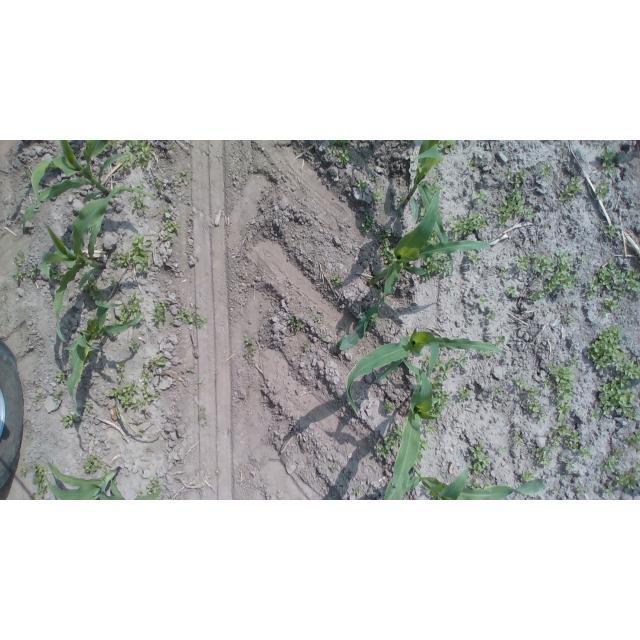Maize: (39, 186, 158, 344), (368, 185, 493, 308), (346, 327, 506, 418), (19, 141, 131, 233), (60, 301, 145, 418), (373, 353, 437, 500), (412, 454, 548, 500), (410, 141, 455, 275), (43, 461, 128, 500)
Weeds: (422, 356, 469, 435), (583, 258, 640, 317), (515, 252, 583, 301), (585, 328, 640, 383), (495, 168, 534, 224), (108, 232, 151, 276), (594, 382, 639, 423), (549, 424, 590, 460), (108, 382, 161, 409), (451, 212, 487, 243), (372, 423, 404, 457), (545, 364, 574, 398), (606, 467, 640, 493), (172, 308, 209, 331), (420, 257, 454, 282), (123, 141, 152, 170), (525, 389, 548, 424), (13, 251, 38, 283), (555, 176, 584, 203), (466, 443, 491, 473), (142, 359, 169, 385), (30, 464, 48, 501), (118, 296, 140, 326), (378, 229, 395, 266), (598, 451, 623, 476), (327, 141, 351, 164), (599, 146, 617, 175), (83, 274, 100, 299), (159, 222, 179, 243), (130, 196, 148, 216), (154, 301, 167, 328), (624, 430, 640, 451), (556, 400, 577, 416), (421, 229, 439, 246), (83, 455, 99, 474), (426, 173, 441, 193), (48, 262, 62, 283), (529, 446, 547, 462), (594, 182, 610, 199), (286, 316, 302, 332), (457, 387, 471, 405), (146, 479, 161, 495), (243, 338, 257, 354), (476, 189, 489, 206), (603, 223, 617, 237), (114, 365, 124, 384), (438, 142, 455, 153), (514, 435, 527, 449), (178, 170, 188, 188), (55, 370, 66, 386), (520, 473, 536, 484), (362, 216, 373, 232), (358, 180, 371, 193), (61, 415, 74, 428), (128, 339, 140, 353), (385, 400, 396, 415), (53, 391, 64, 406), (468, 481, 490, 488), (494, 385, 505, 399), (331, 273, 342, 287), (371, 189, 382, 203), (81, 401, 92, 414), (467, 253, 481, 263), (562, 461, 574, 472), (303, 342, 312, 355), (516, 379, 526, 390), (106, 142, 118, 151), (496, 447, 507, 456), (506, 286, 514, 298), (33, 391, 40, 404), (500, 267, 509, 277), (479, 298, 488, 307), (21, 466, 28, 477), (469, 160, 476, 171), (540, 166, 548, 175), (314, 316, 323, 323), (567, 316, 576, 323), (488, 314, 497, 321), (154, 180, 161, 188), (499, 335, 506, 343), (197, 380, 205, 385)
